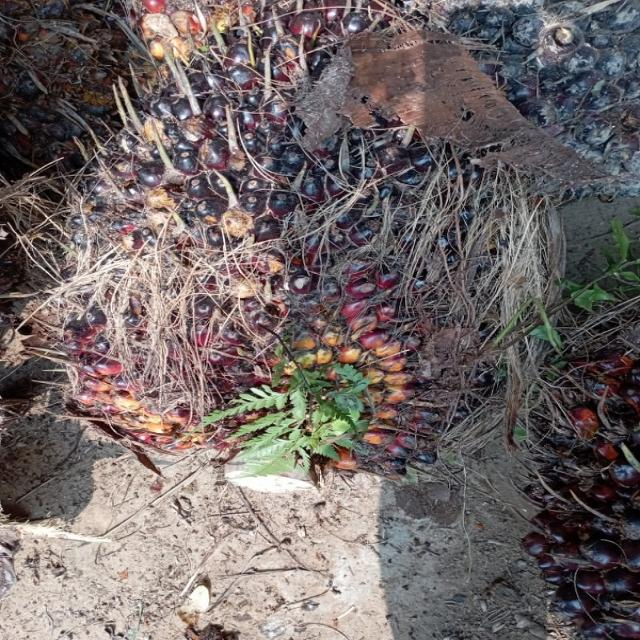fraksi 00: (23, 21, 506, 493)
